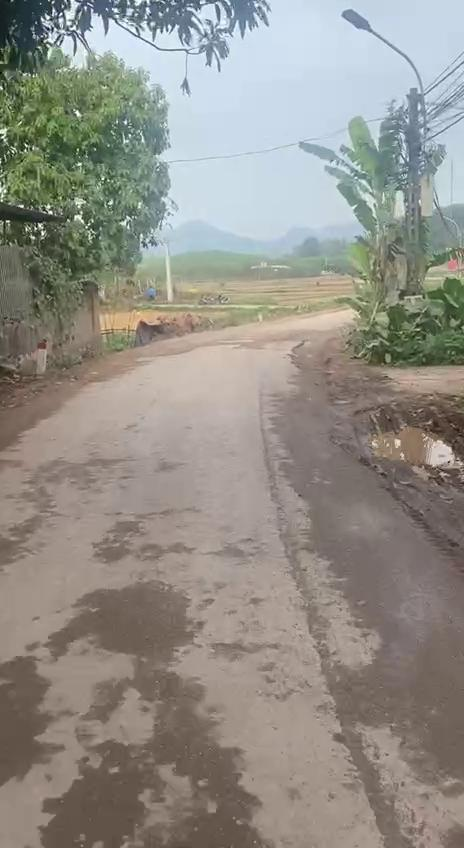pothole: (349, 424, 464, 481)
